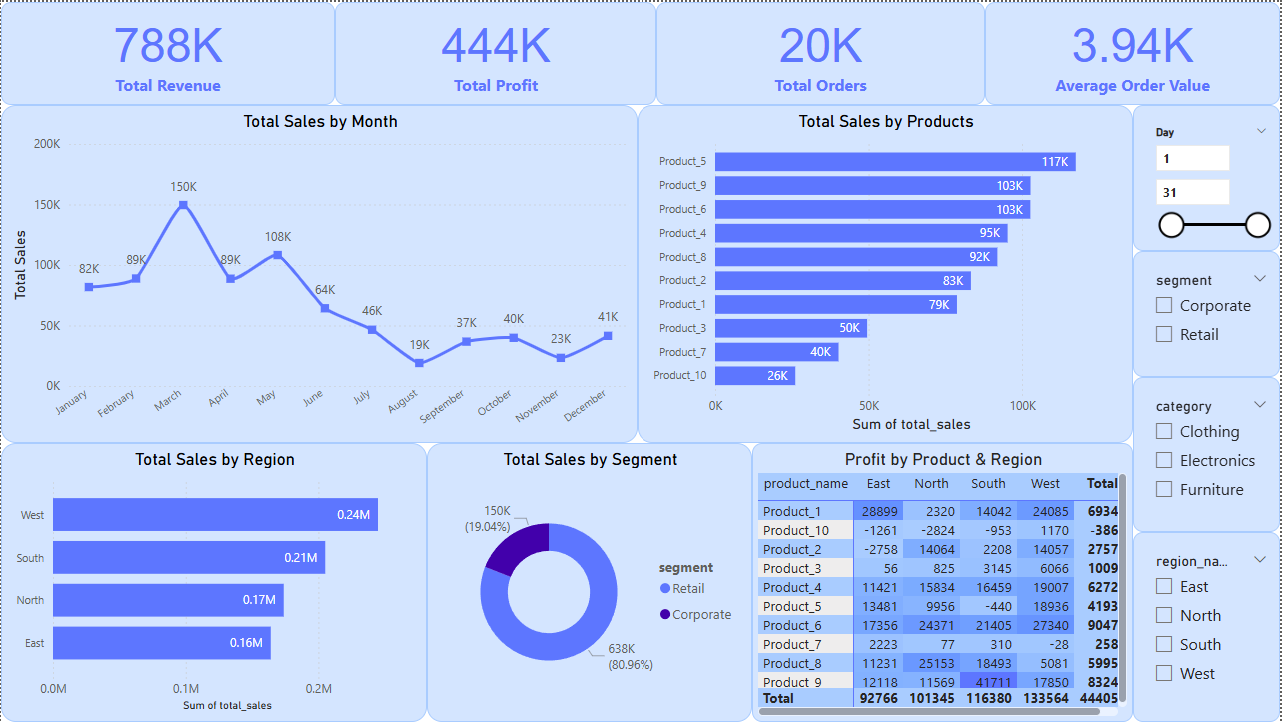

Layout of this report page (visuals, bound fields, positions):
{"tool":"powerbi","page":{"name":"Sales Dashboard","canvas":[1280,720],"ordinal":0},"visuals":[{"type":"card","fields":{"Values":["Sum(sales_dashboard cleaned_sales.total_sales)"]},"box":[0,0,333.6,103.1],"z":0},{"type":"card","fields":{"Values":["Sum(sales_dashboard cleaned_sales.profit)"]},"box":[333.6,0,321.9,103.1],"z":1000},{"type":"card","fields":{"Values":["Sum(sales_dashboard cleaned_sales.sale_id)"]},"box":[655.6,0,329.7,103.1],"z":2000},{"type":"card","fields":{"Values":["sales_dashboard cleaned_sales.AverageOrderValue"]},"box":[985.3,0,294.7,103.1],"z":3000},{"type":"lineChart","title":"Total Sales by Month","fields":{"Category":["sales_dashboard cleaned_sales.date.Variation.Date Hierarchy.Month"],"Y":["Sum(sales_dashboard cleaned_sales.total_sales)"]},"box":[0,103.1,637.1,337.5],"z":4000},{"type":"barChart","title":"Total Sales by Region","fields":{"Category":["sales_dashboard cleaned_sales.region_name"],"Y":["Sum(sales_dashboard cleaned_sales.total_sales)"]},"box":[0,440.6,426.3,279.4],"z":5000},{"type":"barChart","title":"Total Sales by Products","fields":{"Category":["sales_dashboard cleaned_sales.product_name"],"Y":["Sum(sales_dashboard cleaned_sales.total_sales)"]},"box":[637.1,103.1,496,337.5],"z":6000},{"type":"donutChart","title":"Total Sales by Segment","fields":{"Category":["sales_dashboard cleaned_sales.segment"],"Y":["Sum(sales_dashboard cleaned_sales.total_sales)"]},"box":[426.3,440.6,326,279.4],"z":7000},{"type":"pivotTable","title":"Profit by Product & Region","fields":{"Rows":["sales_dashboard cleaned_sales.product_name"],"Columns":["sales_dashboard cleaned_sales.region_name"],"Values":["Sum(sales_dashboard cleaned_sales.profit)"]},"box":[752.2,440.6,380.6,279.4],"z":8000},{"type":"slicer","fields":{"Values":["sales_dashboard cleaned_sales.date.Variation.Date Hierarchy.Day"]},"box":[1132.8,103,146.9,146],"z":9000},{"type":"slicer","fields":{"Values":["sales_dashboard cleaned_sales.region_name"]},"box":[1132.8,530.1,146.9,189.9],"z":10000},{"type":"slicer","fields":{"Values":["sales_dashboard cleaned_sales.segment"]},"box":[1132.8,249,146.9,126.3],"z":11000},{"type":"slicer","fields":{"Values":["sales_dashboard cleaned_sales.category"]},"box":[1132.8,375.2,146.9,154.9],"z":12000}]}

Visuals, with their boxes in screenshot pixels (x1, y1, x2, y2), scaled from the page's 1280x720 canvas onto the 1283x722 screenshot:
card - Sum(sales_dashboard cleaned_sales.total_sales): [0,0,334,103]
card - Sum(sales_dashboard cleaned_sales.profit): [334,0,657,103]
card - Sum(sales_dashboard cleaned_sales.sale_id): [657,0,988,103]
card - sales_dashboard cleaned_sales.AverageOrderValue: [988,0,1282,103]
"Total Sales by Month" lineChart: [0,103,639,442]
"Total Sales by Region" barChart: [0,442,427,721]
"Total Sales by Products" barChart: [639,103,1136,442]
"Total Sales by Segment" donutChart: [427,442,754,721]
"Profit by Product & Region" pivotTable: [754,442,1135,721]
slicer - sales_dashboard cleaned_sales.date.Variation.Date Hierarchy.Day: [1135,103,1282,250]
slicer - sales_dashboard cleaned_sales.region_name: [1135,532,1282,721]
slicer - sales_dashboard cleaned_sales.segment: [1135,250,1282,376]
slicer - sales_dashboard cleaned_sales.category: [1135,376,1282,532]
